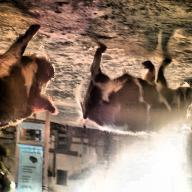boar: (74, 47, 192, 136), (0, 26, 58, 130)
